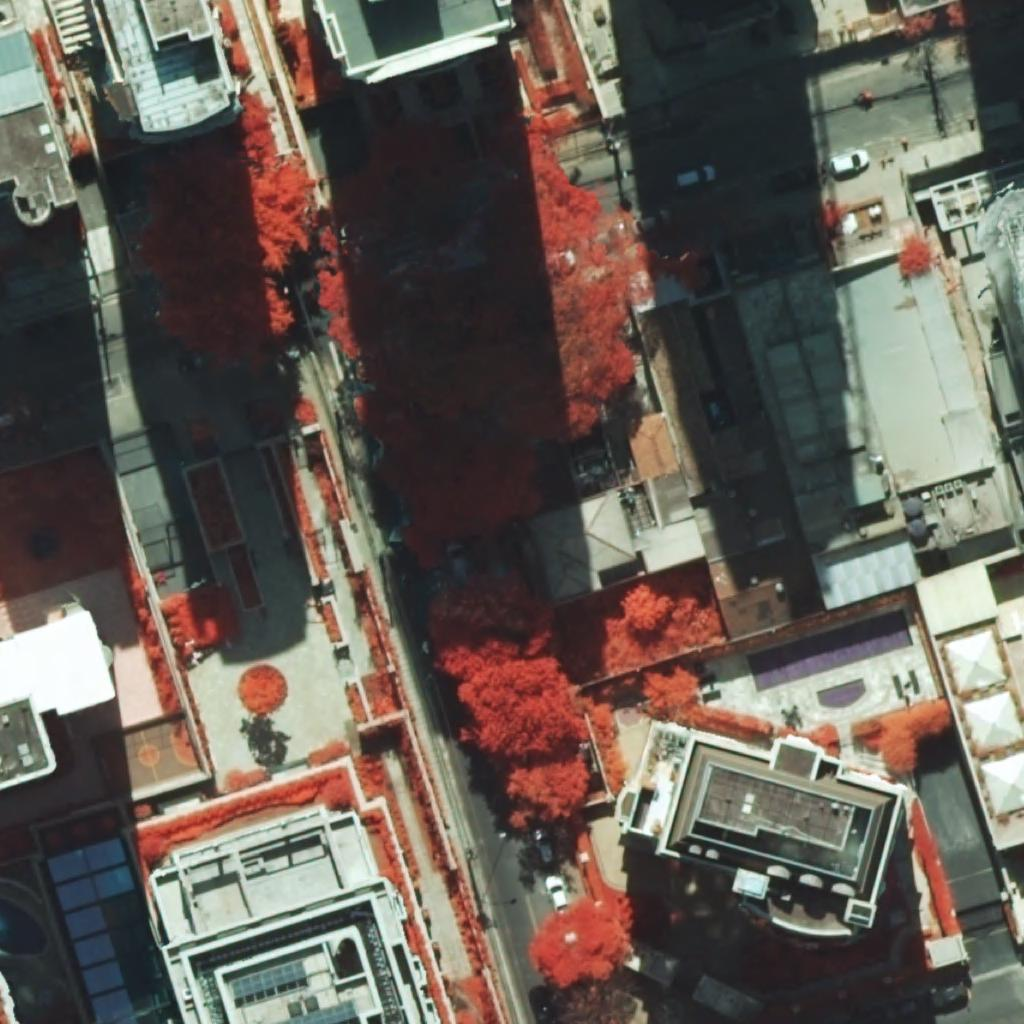pool: (747, 609, 913, 693), (0, 896, 48, 955), (817, 677, 867, 708)
